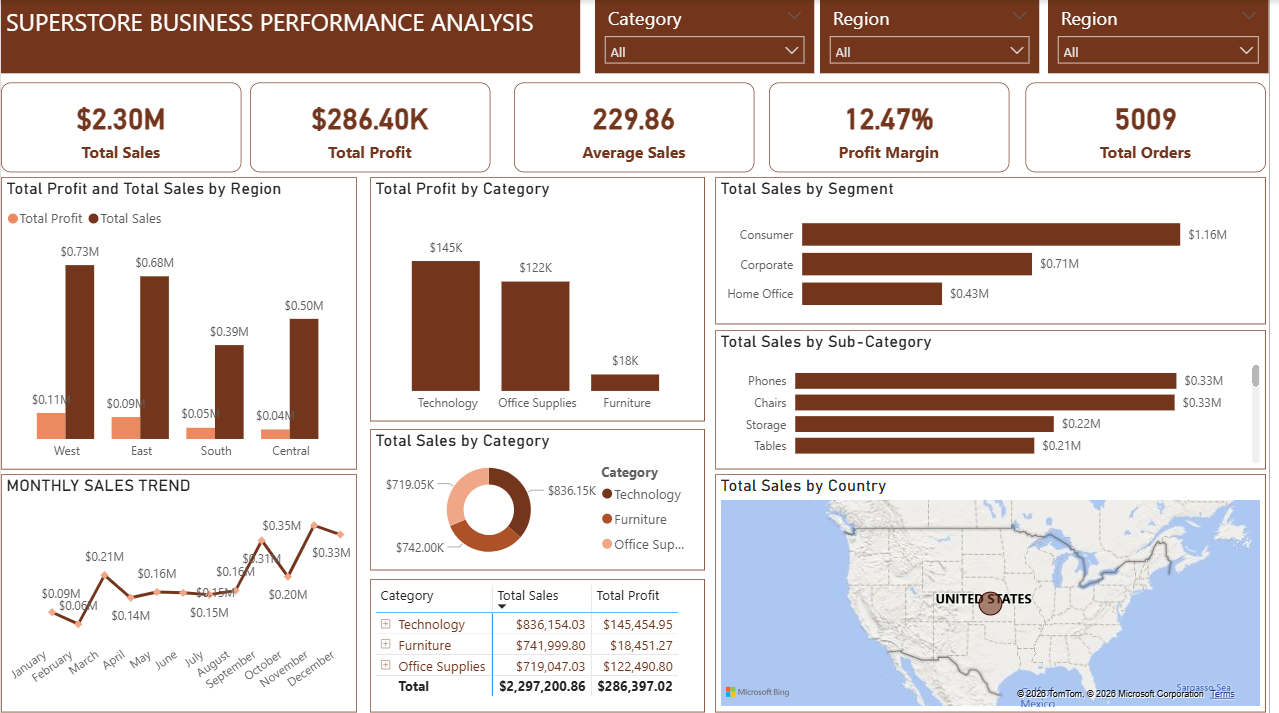

This screenshot's page, from the dashboard's own definition file:
{"tool":"powerbi","page":{"name":"Page 1","canvas":[1280,720],"ordinal":0},"visuals":[{"type":"card","fields":{"Values":["Sample - Superstore.Total Sales"]},"box":[0,83.3,242.4,90.9],"z":0},{"type":"clusteredColumnChart","fields":{"Category":["Sample - Superstore.Region"],"Y":["Sample - Superstore.Total Profit","Sample - Superstore.Total Sales"]},"box":[0,178.8,359.1,295.5],"z":1000},{"type":"lineChart","title":"MONTHLY SALES TREND","fields":{"Category":["Sample - Superstore.Order Date.Variation.Date Hierarchy.Month"],"Y":["Sample - Superstore.Total Sales"]},"box":[0,478.8,359.1,240.9],"z":2000},{"type":"donutChart","fields":{"Category":["Sample - Superstore.Category"],"Y":["Sample - Superstore.Total Sales"]},"box":[372.7,433.3,337.9,142.4],"z":3000},{"type":"clusteredBarChart","fields":{"Category":["Sample - Superstore.Segment"],"Y":["Sample - Superstore.Total Sales"]},"box":[721.2,178.8,556.1,148.5],"z":4000},{"type":"clusteredBarChart","fields":{"Category":["Sample - Superstore.Sub-Category"],"Y":["Sample - Superstore.Total Sales"]},"box":[721.2,333.3,556.1,140.9],"z":5000},{"type":"clusteredColumnChart","fields":{"Category":["Sample - Superstore.Category"],"Y":["Sample - Superstore.Total Profit"]},"box":[372.7,178.8,337.9,247],"z":6000},{"type":"pivotTable","fields":{"Rows":["Sample - Superstore.Category","Sample - Superstore.Sub-Category"],"Values":["Sample - Superstore.Total Sales","Sample - Superstore.Total Profit"]},"box":[372.7,584.8,337.9,134.8],"z":7000},{"type":"map","fields":{"Size":["Sample - Superstore.Total Sales"],"Category":["Sample - Superstore.Country"]},"box":[721.2,478.8,556.1,240.9],"z":8000},{"type":"textbox","box":[0,0,584.8,74.2],"z":9000},{"type":"card","fields":{"Values":["Sample - Superstore.Total Profit"]},"box":[251.5,83.3,242.4,90.9],"z":10000},{"type":"card","fields":{"Values":["Sample - Superstore.Average Sales"]},"box":[518.2,83.3,242.4,90.9],"z":11000},{"type":"card","fields":{"Values":["Sample - Superstore.Profit Margin"]},"box":[775.8,83.3,242.4,90.9],"z":12000},{"type":"card","fields":{"Values":["Sample - Superstore.Total Orders"]},"box":[1034.8,83.3,242.4,90.9],"z":13000},{"type":"slicer","fields":{"Values":["Sample - Superstore.Category"]},"box":[600,0,221,74.2],"z":14000},{"type":"slicer","fields":{"Values":["Sample - Superstore.Region"]},"box":[827.3,0,221.2,74.2],"z":15000},{"type":"slicer","fields":{"Values":["Sample - Superstore.Region"]},"box":[1057.6,0,222.7,74.2],"z":16000}]}

Visuals, with their boxes in screenshot pixels (x1, y1, x2, y2), scaled from the page's 1280x720 canvas onto the 1279x713 screenshot:
card - Sample - Superstore.Total Sales: [left=0, top=82, right=242, bottom=173]
clusteredColumnChart - Sample - Superstore.Region x Sample - Superstore.Total Profit: [left=0, top=177, right=359, bottom=470]
"MONTHLY SALES TREND" lineChart: [left=0, top=474, right=359, bottom=712]
donutChart - Sample - Superstore.Category x Sample - Superstore.Total Sales: [left=372, top=429, right=710, bottom=570]
clusteredBarChart - Sample - Superstore.Segment x Sample - Superstore.Total Sales: [left=721, top=177, right=1276, bottom=324]
clusteredBarChart - Sample - Superstore.Sub-Category x Sample - Superstore.Total Sales: [left=721, top=330, right=1276, bottom=470]
clusteredColumnChart - Sample - Superstore.Category x Sample - Superstore.Total Profit: [left=372, top=177, right=710, bottom=422]
pivotTable - Sample - Superstore.Category x Sample - Superstore.Sub-Category: [left=372, top=579, right=710, bottom=712]
map - Sample - Superstore.Total Sales x Sample - Superstore.Country: [left=721, top=474, right=1276, bottom=712]
textbox: [left=0, top=0, right=584, bottom=73]
card - Sample - Superstore.Total Profit: [left=251, top=82, right=494, bottom=173]
card - Sample - Superstore.Average Sales: [left=518, top=82, right=760, bottom=173]
card - Sample - Superstore.Profit Margin: [left=775, top=82, right=1017, bottom=173]
card - Sample - Superstore.Total Orders: [left=1034, top=82, right=1276, bottom=173]
slicer - Sample - Superstore.Category: [left=600, top=0, right=820, bottom=73]
slicer - Sample - Superstore.Region: [left=827, top=0, right=1048, bottom=73]
slicer - Sample - Superstore.Region: [left=1057, top=0, right=1278, bottom=73]
